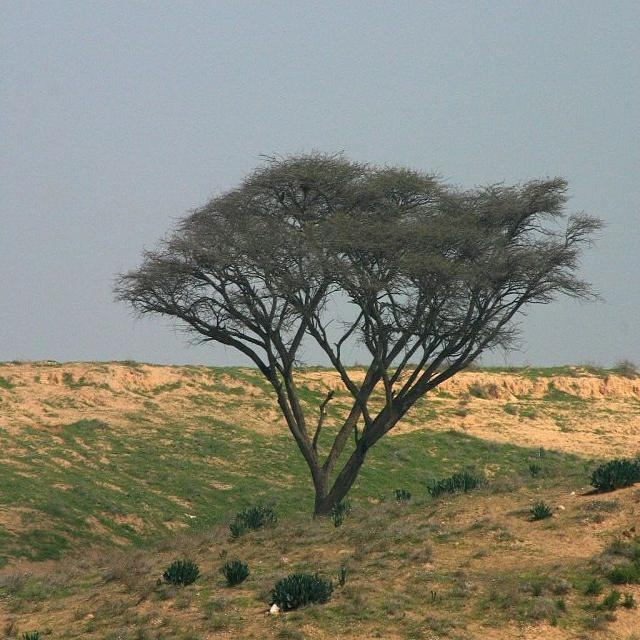Acacia: (118, 114, 578, 506)
